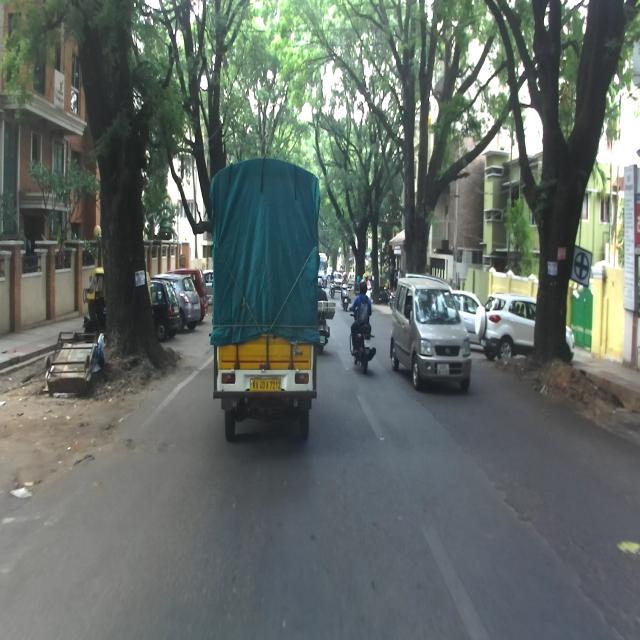car ahead at: (389, 278, 473, 388)
motorcycle ahead at: (348, 310, 379, 377)
tree ahead at: (80, 38, 165, 368)
truck ahead at: (210, 151, 321, 443)
